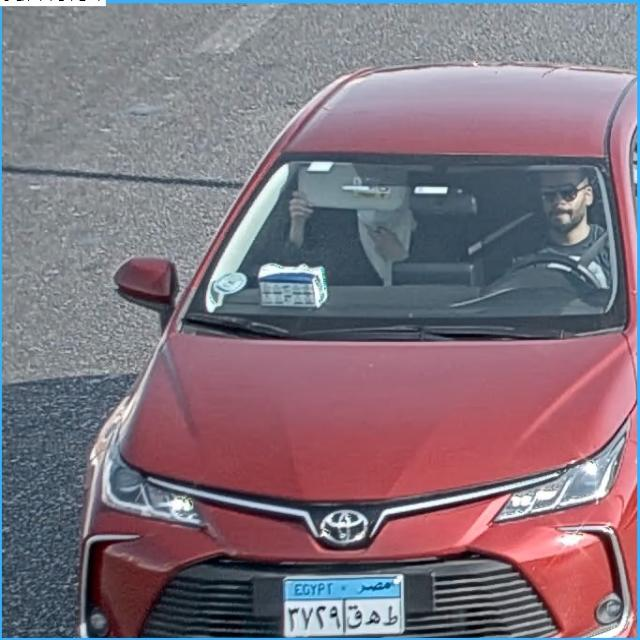windshield: (187, 154, 626, 326)
